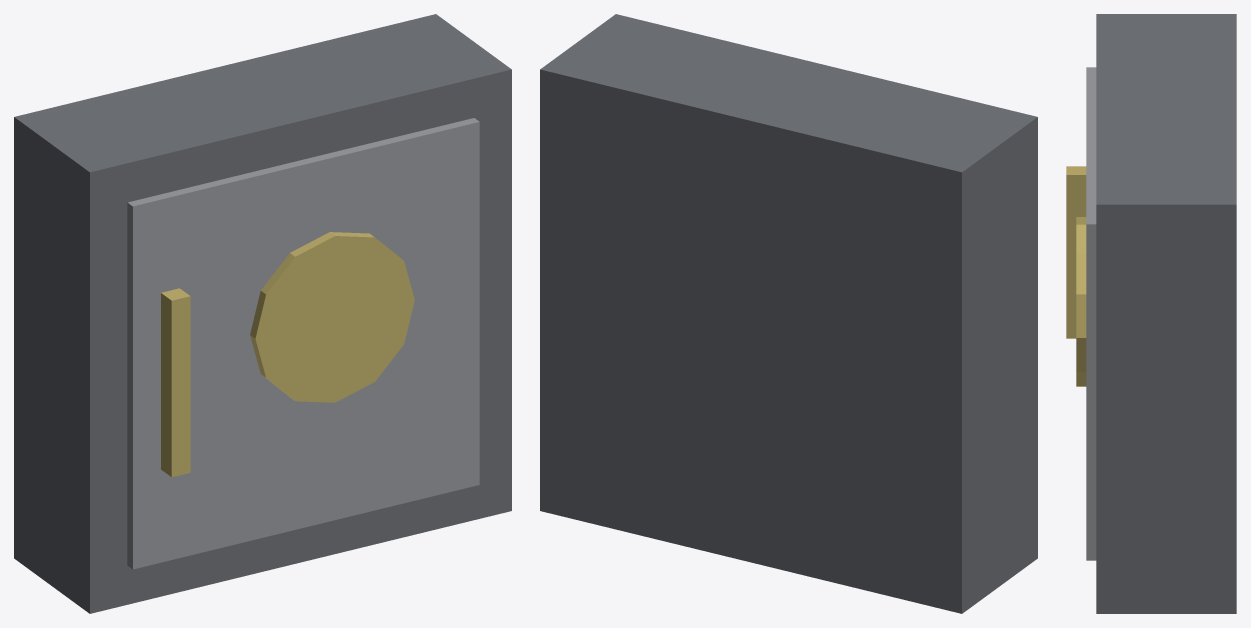
Rendered from WallSafe.fbx.
3 renders of one model, left to right at view 1: azimuth 30°, elevation 25°; view 2: azimuth 150°, elevation 25°; view 3: azimuth 270°, elevation 25°, orthographic. The views are drawn at different scales.
Visible parts, largest first — view 1: WallSafe, WallSafeDial; view 2: WallSafe; view 3: WallSafe, WallSafeDial.
Boxes of the visible parts, x1=… form: WallSafe: x1=14, y1=14, x2=511, y2=613; WallSafeDial: x1=161, y1=232, x2=414, y2=477; WallSafe: x1=540, y1=14, x2=1037, y2=613; WallSafe: x1=1086, y1=14, x2=1236, y2=613; WallSafeDial: x1=1066, y1=166, x2=1086, y2=386.
Size of the model in its own units: 0.9 by 0.9 by 0.34.
